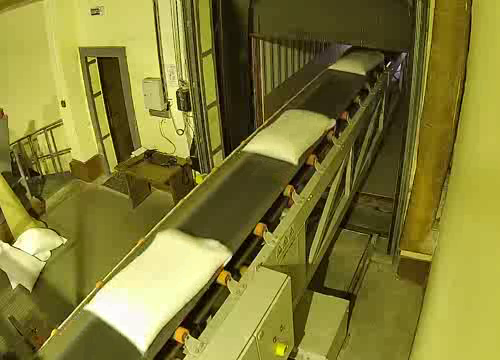bag: (70, 218, 243, 353), (238, 102, 342, 165), (328, 46, 387, 76)
